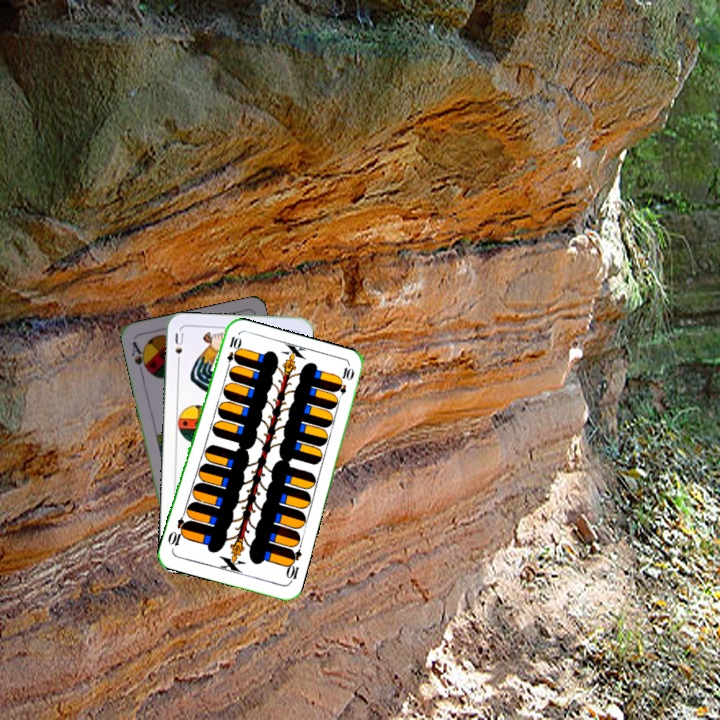E10: (282, 545, 305, 586), (223, 332, 242, 373)
SA: (127, 338, 151, 377)
SU: (171, 329, 187, 368)
